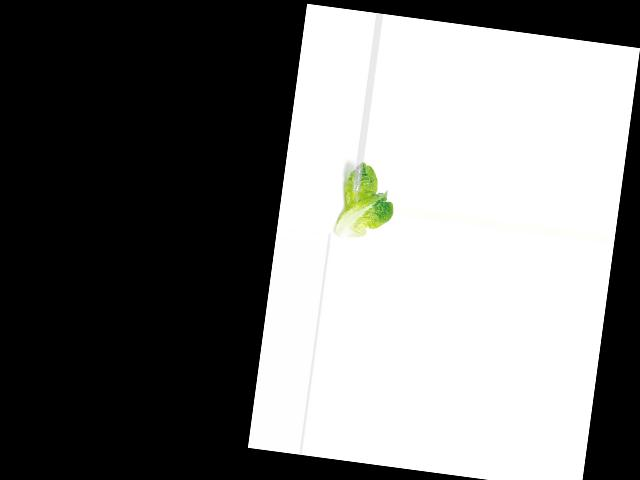lettuce: (336, 158, 399, 245)
